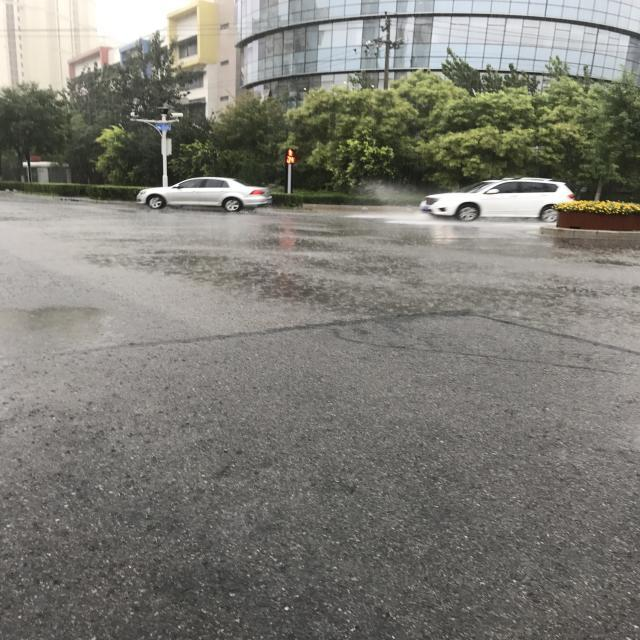car: (177, 61, 223, 220), (177, 370, 212, 504)
